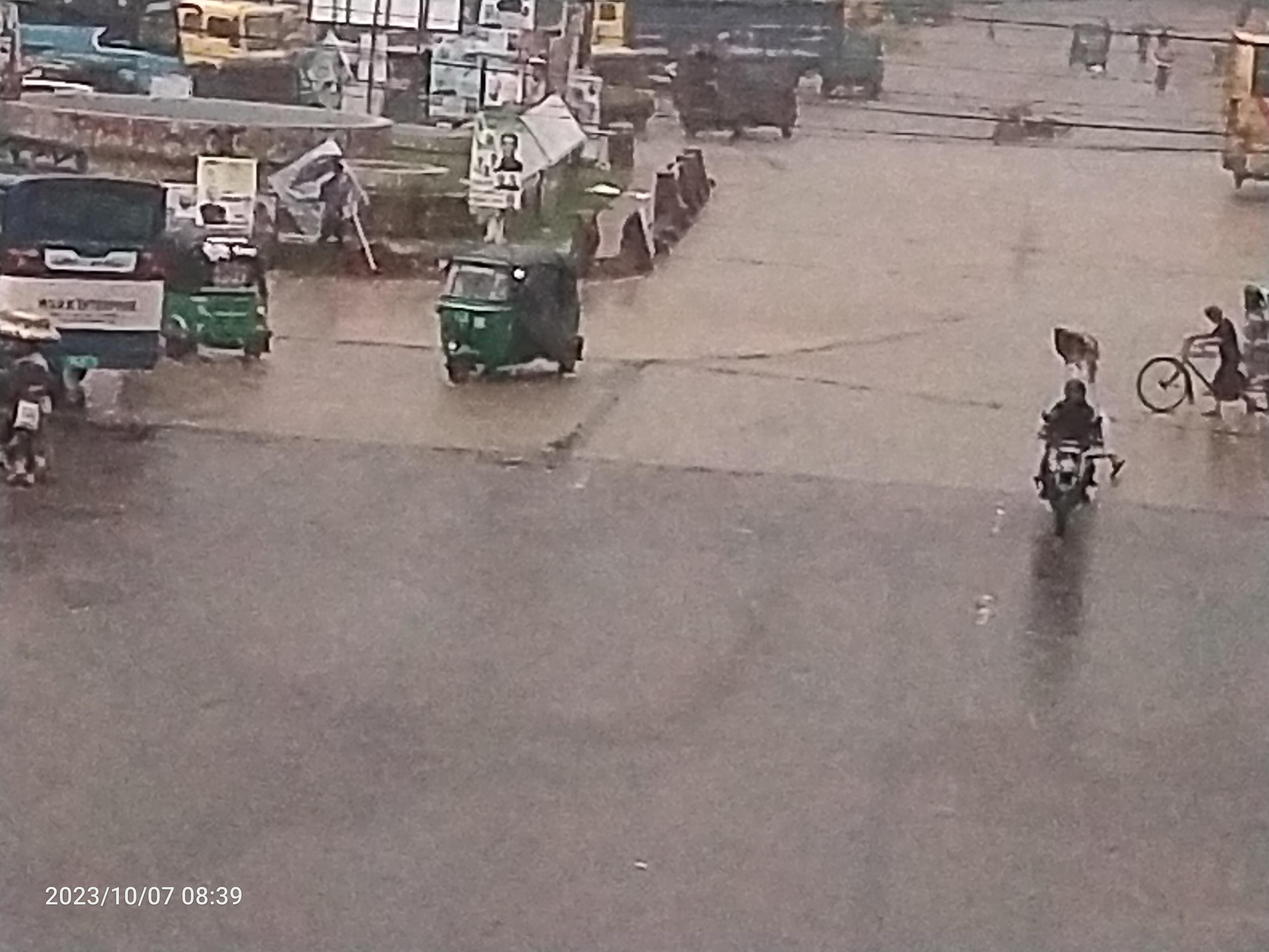Bike: (999, 358, 1159, 585)
Bus: (0, 142, 189, 423)
Car: (1122, 260, 1269, 440)
